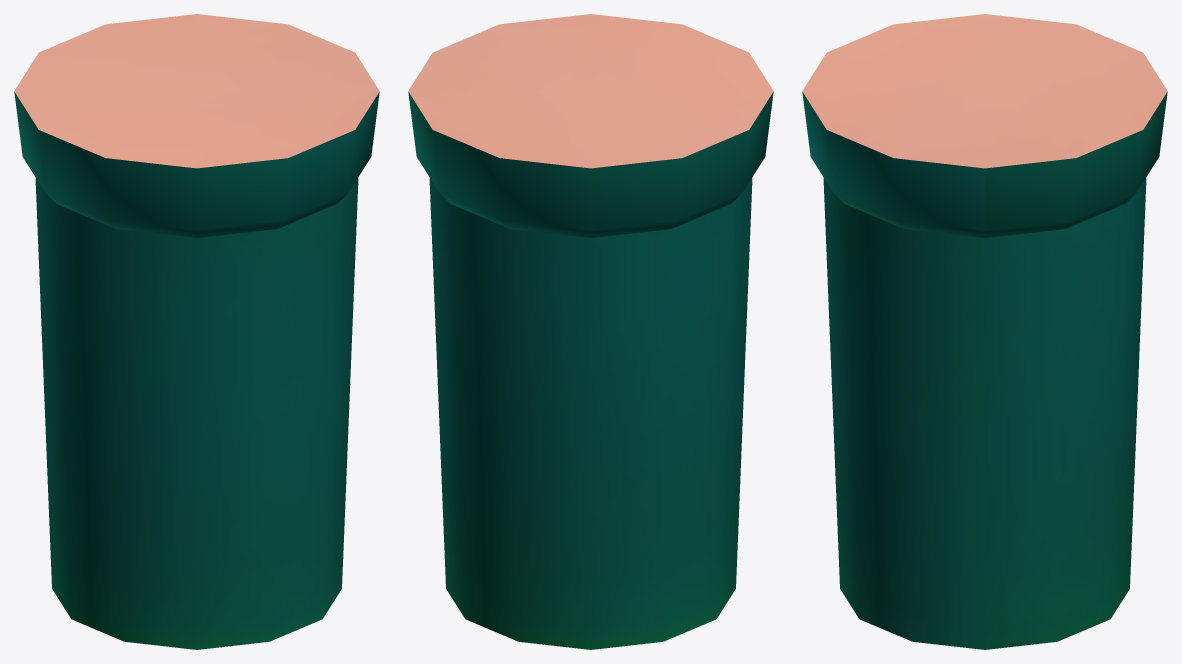
The model's file is SM_drink_coffee_02.fbx.
3 renders of one model, left to right at view 1: azimuth 30°, elevation 25°; view 2: azimuth 150°, elevation 25°; view 3: azimuth 270°, elevation 25°, orthographic.
Parts seen in each view (by area): view 1: Cylinder067; view 2: Cylinder067; view 3: Cylinder067.
Part boxes in pixels (box(x1,y1,x2,y2)): Cylinder067: box(14, 14, 379, 649); Cylinder067: box(408, 14, 773, 649); Cylinder067: box(802, 14, 1167, 649).
Size of the model in its own units: 10.24 by 15.37 by 10.24.
